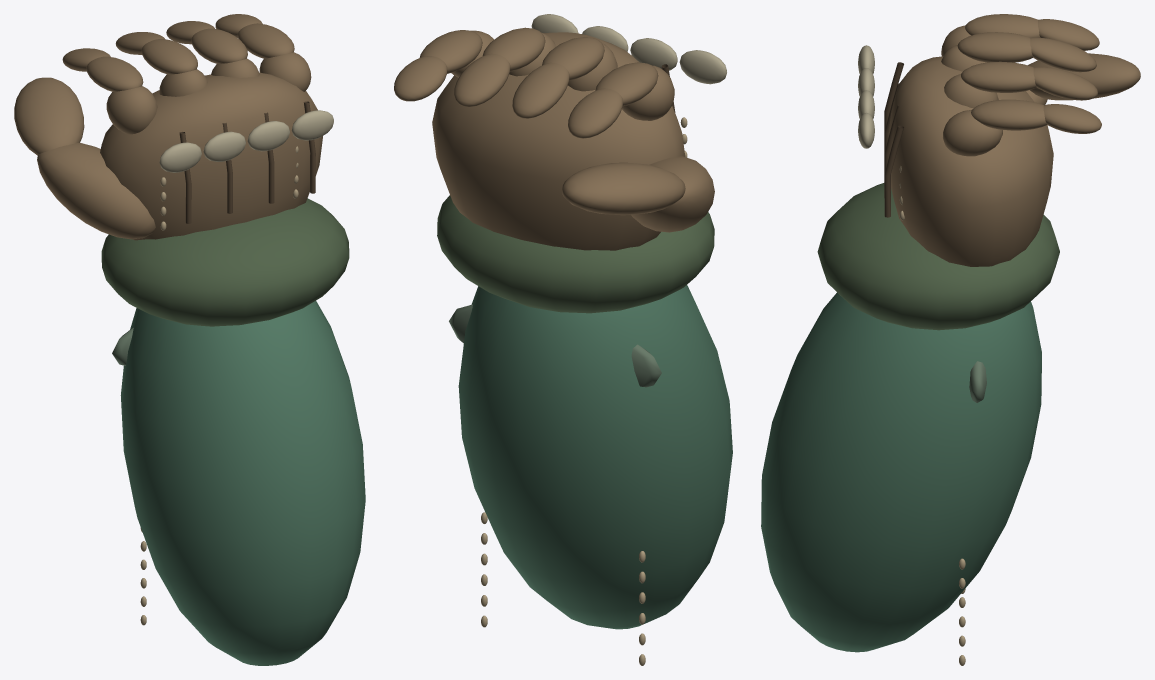
File: ranger_grip_detailed.glb
3 views of the same model, side by side, from view 1: azimuth 30°, elevation 25°; view 2: azimuth 150°, elevation 25°; view 3: azimuth 270°, elevation 25° (orthographic). The views are drawn at different scales.
Visible parts, largest first — view 1: Detailed canvas grip, Knuckle reinforcement 0, Knuckle reinforcement 2, Knuckle reinforcement 1, Knuckle reinforcement 3; view 2: Detailed canvas grip, Cuff fastener, Knuckle reinforcement 0, Knuckle reinforcement 1, Knuckle reinforcement 3, Knuckle reinforcement 2; view 3: Detailed canvas grip, Cuff fastener.
Boxes of the visible parts, <box> form: Detailed canvas grip: <box>14,14,365,665</box>; Knuckle reinforcement 0: <box>159,142,201,172</box>; Knuckle reinforcement 2: <box>247,121,289,151</box>; Knuckle reinforcement 1: <box>203,131,245,161</box>; Knuckle reinforcement 3: <box>291,110,333,140</box>; Detailed canvas grip: <box>394,27,732,629</box>; Cuff fastener: <box>449,304,661,387</box>; Knuckle reinforcement 0: <box>679,50,726,84</box>; Knuckle reinforcement 1: <box>630,38,677,70</box>; Knuckle reinforcement 3: <box>531,14,578,33</box>; Knuckle reinforcement 2: <box>582,26,628,51</box>; Detailed canvas grip: <box>761,14,1140,652</box>; Cuff fastener: <box>969,361,986,402</box>.
Size of the model in its own units: 0.1463 by 0.3089 by 0.1785.
